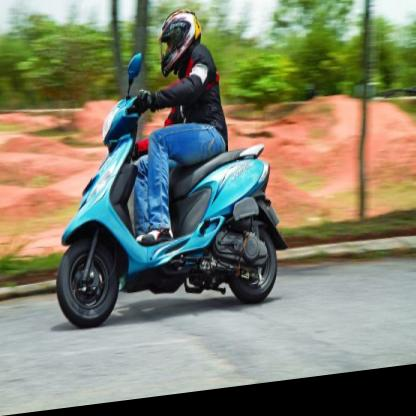With Helmet: (155, 8, 206, 86)
